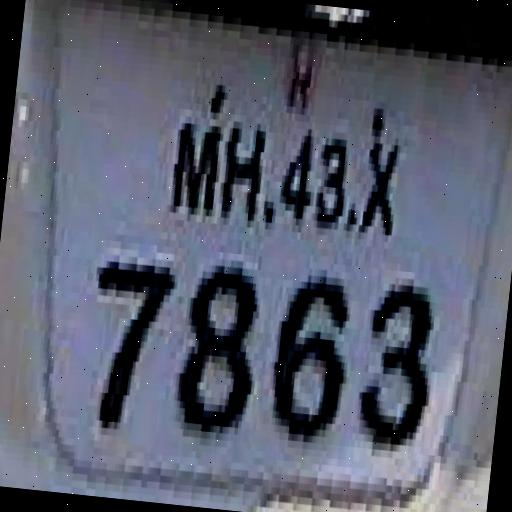number plate: (1, 8, 512, 512)
